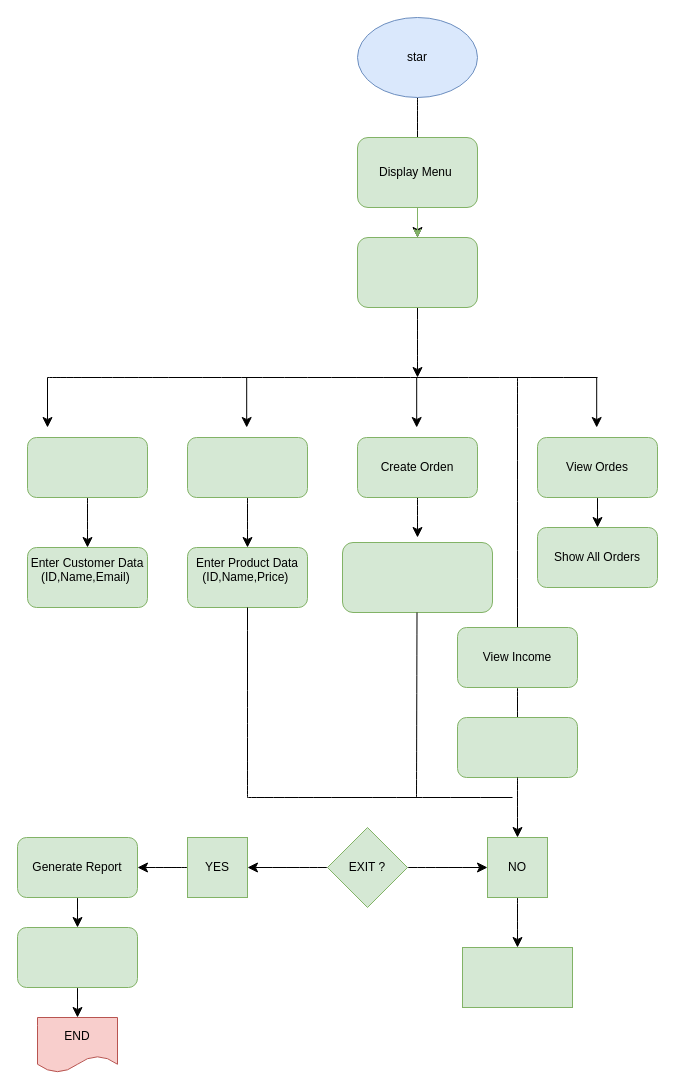
This 675x1090 diagram has some shape labels left out. The shapes that lost their labels are listed below. From the top down, each one's centre as x and y in pixels, then its label:
the point at 417,272: Select Option
the point at 87,467: Reguister Customer
the point at 247,467: Reguister Product
the point at 417,577: Enter Order Details (Client,Product,Quantity,Price)
the point at 517,747: Display Total Income
the point at 77,957: Create Sales Report
the point at 517,977: Return to Menu
